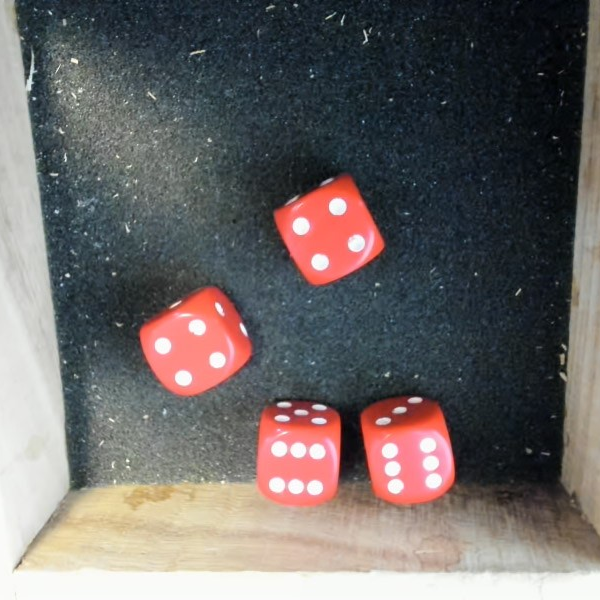red_die_pip4: (129, 281, 267, 412), (263, 171, 391, 297)
red_die_pip6: (358, 387, 463, 511), (259, 400, 341, 510)
